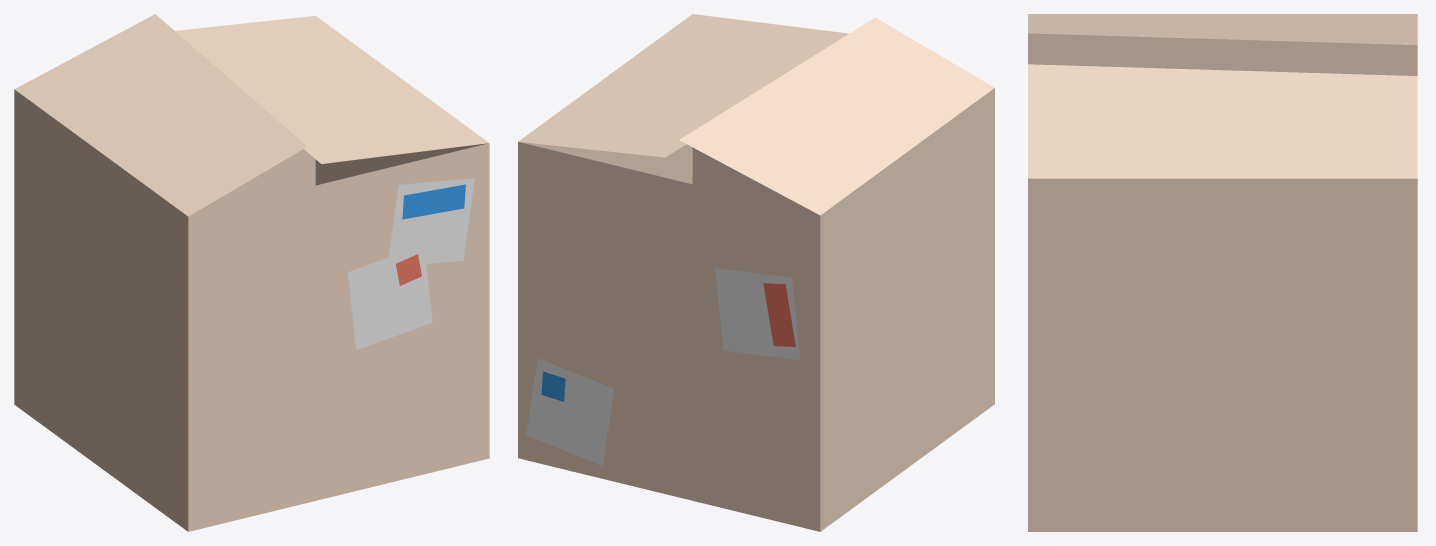
Rendered from CardboardBox_01.fbx.
3 views of the same model, side by side, from view 1: azimuth 30°, elevation 25°; view 2: azimuth 150°, elevation 25°; view 3: azimuth 270°, elevation 25° (orthographic). The views are drawn at different scales.
Parts seen in each view (by area): view 1: CardboardBox_01; view 2: CardboardBox_01; view 3: CardboardBox_01.
Boxes of the visible parts, x1=… form: CardboardBox_01: x1=14, y1=14, x2=489, y2=531; CardboardBox_01: x1=518, y1=14, x2=994, y2=531; CardboardBox_01: x1=1028, y1=14, x2=1417, y2=531.
Size of the model in its own units: 50 by 56.48 by 51.07.
